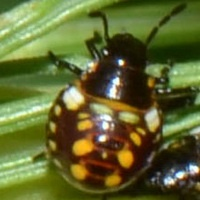insect: (46, 3, 199, 192), (151, 133, 199, 193)
